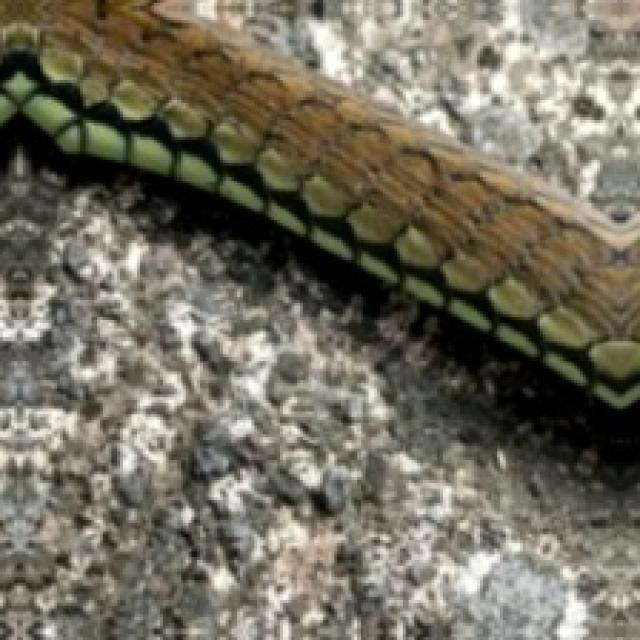philippine bronzeback treesnake: (0, 0, 637, 417)
